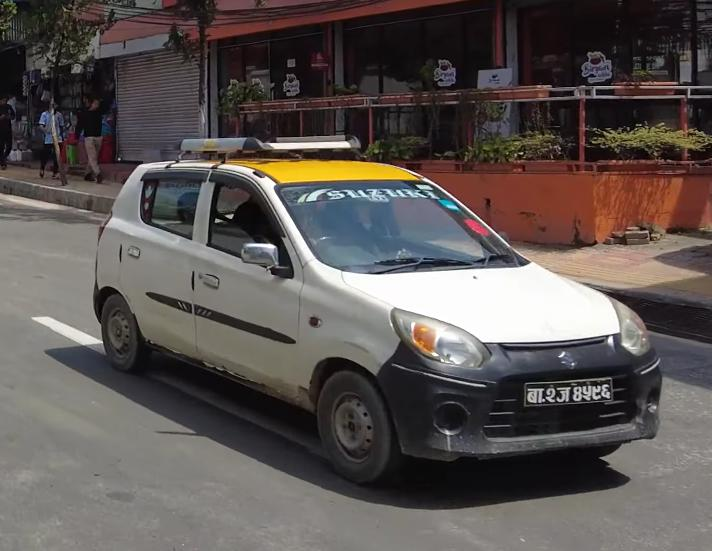taxi: (84, 120, 667, 497)
